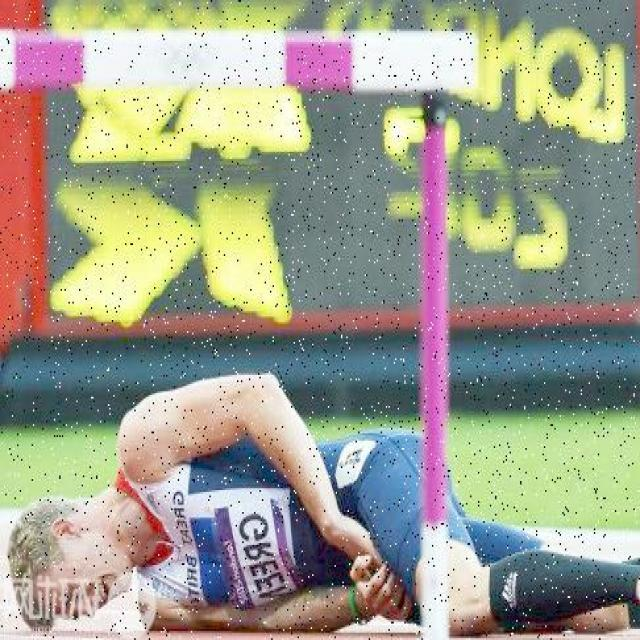fall: (19, 393, 638, 629)
